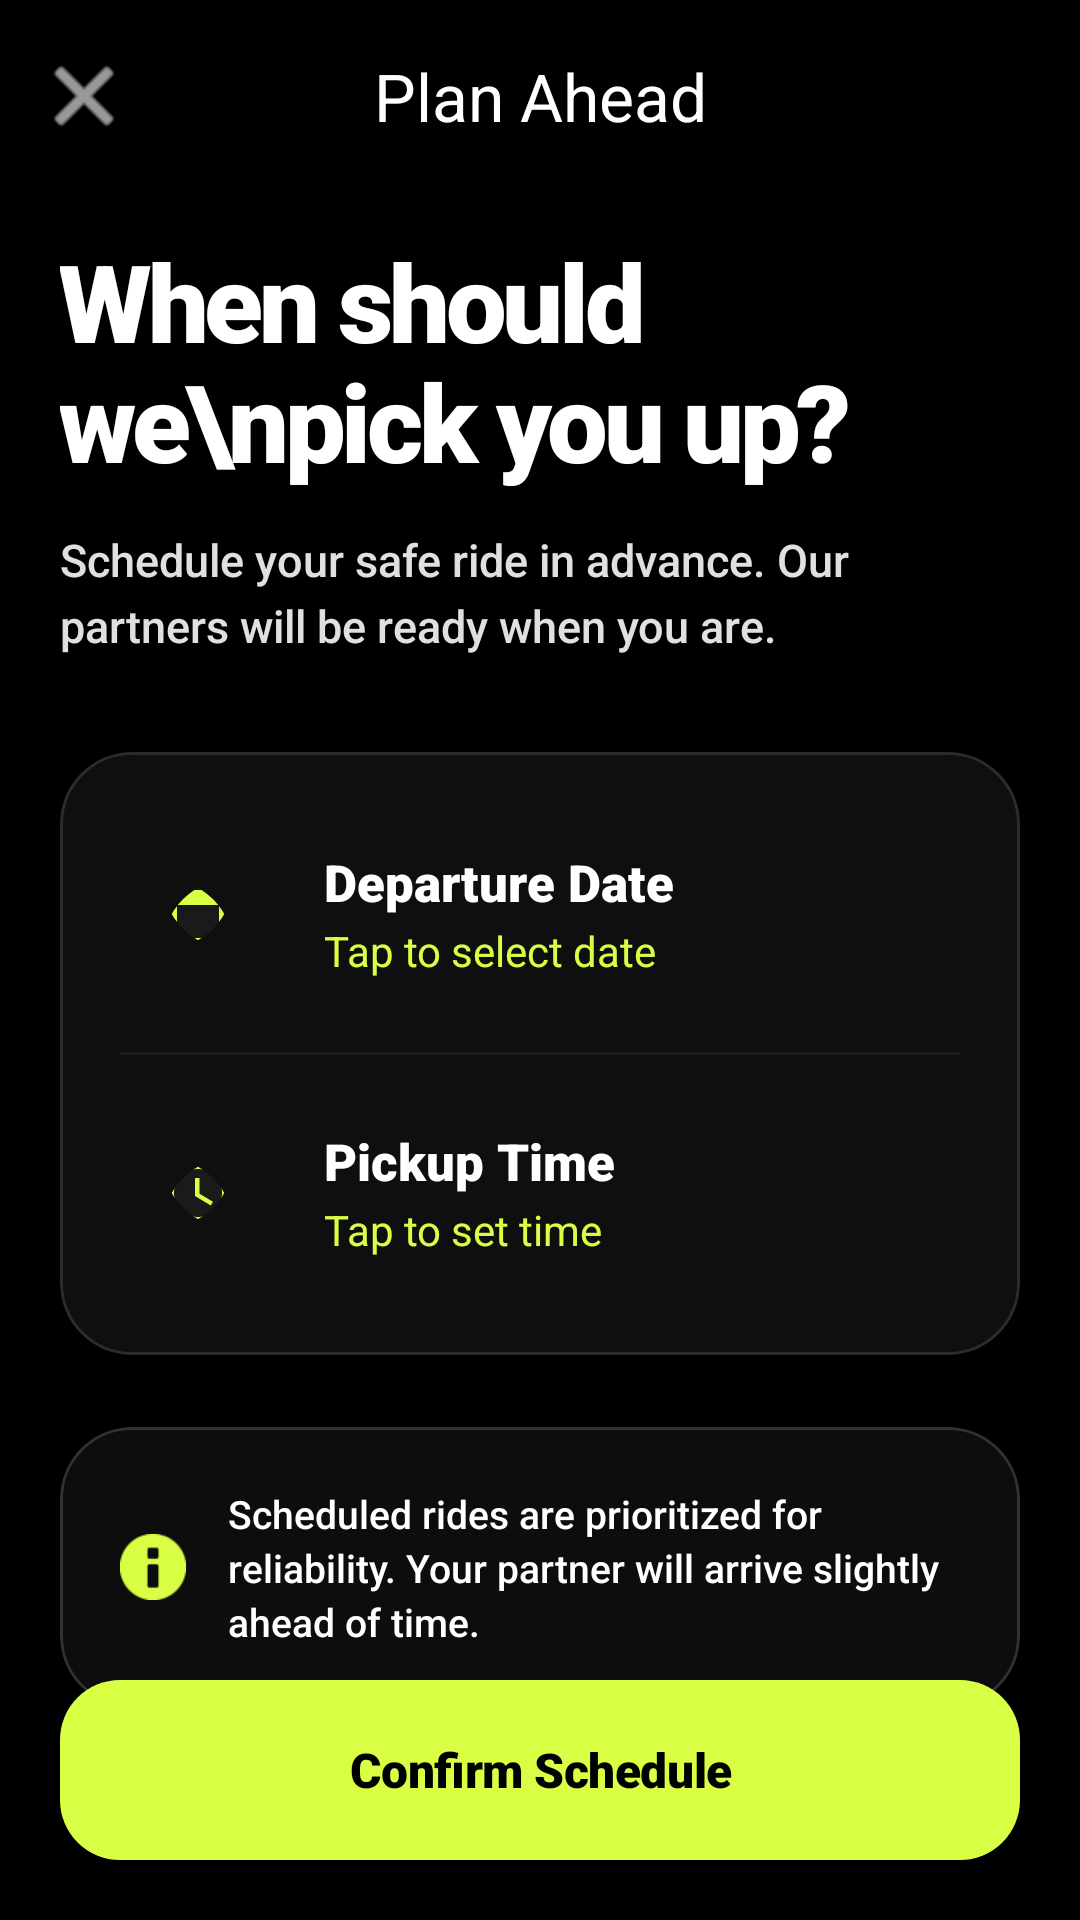

Where to tap for icons on this 1080px x 1920px app screen, as (x=x, y=y):
clock: (x=198, y=1193)
info: (x=153, y=1567)
